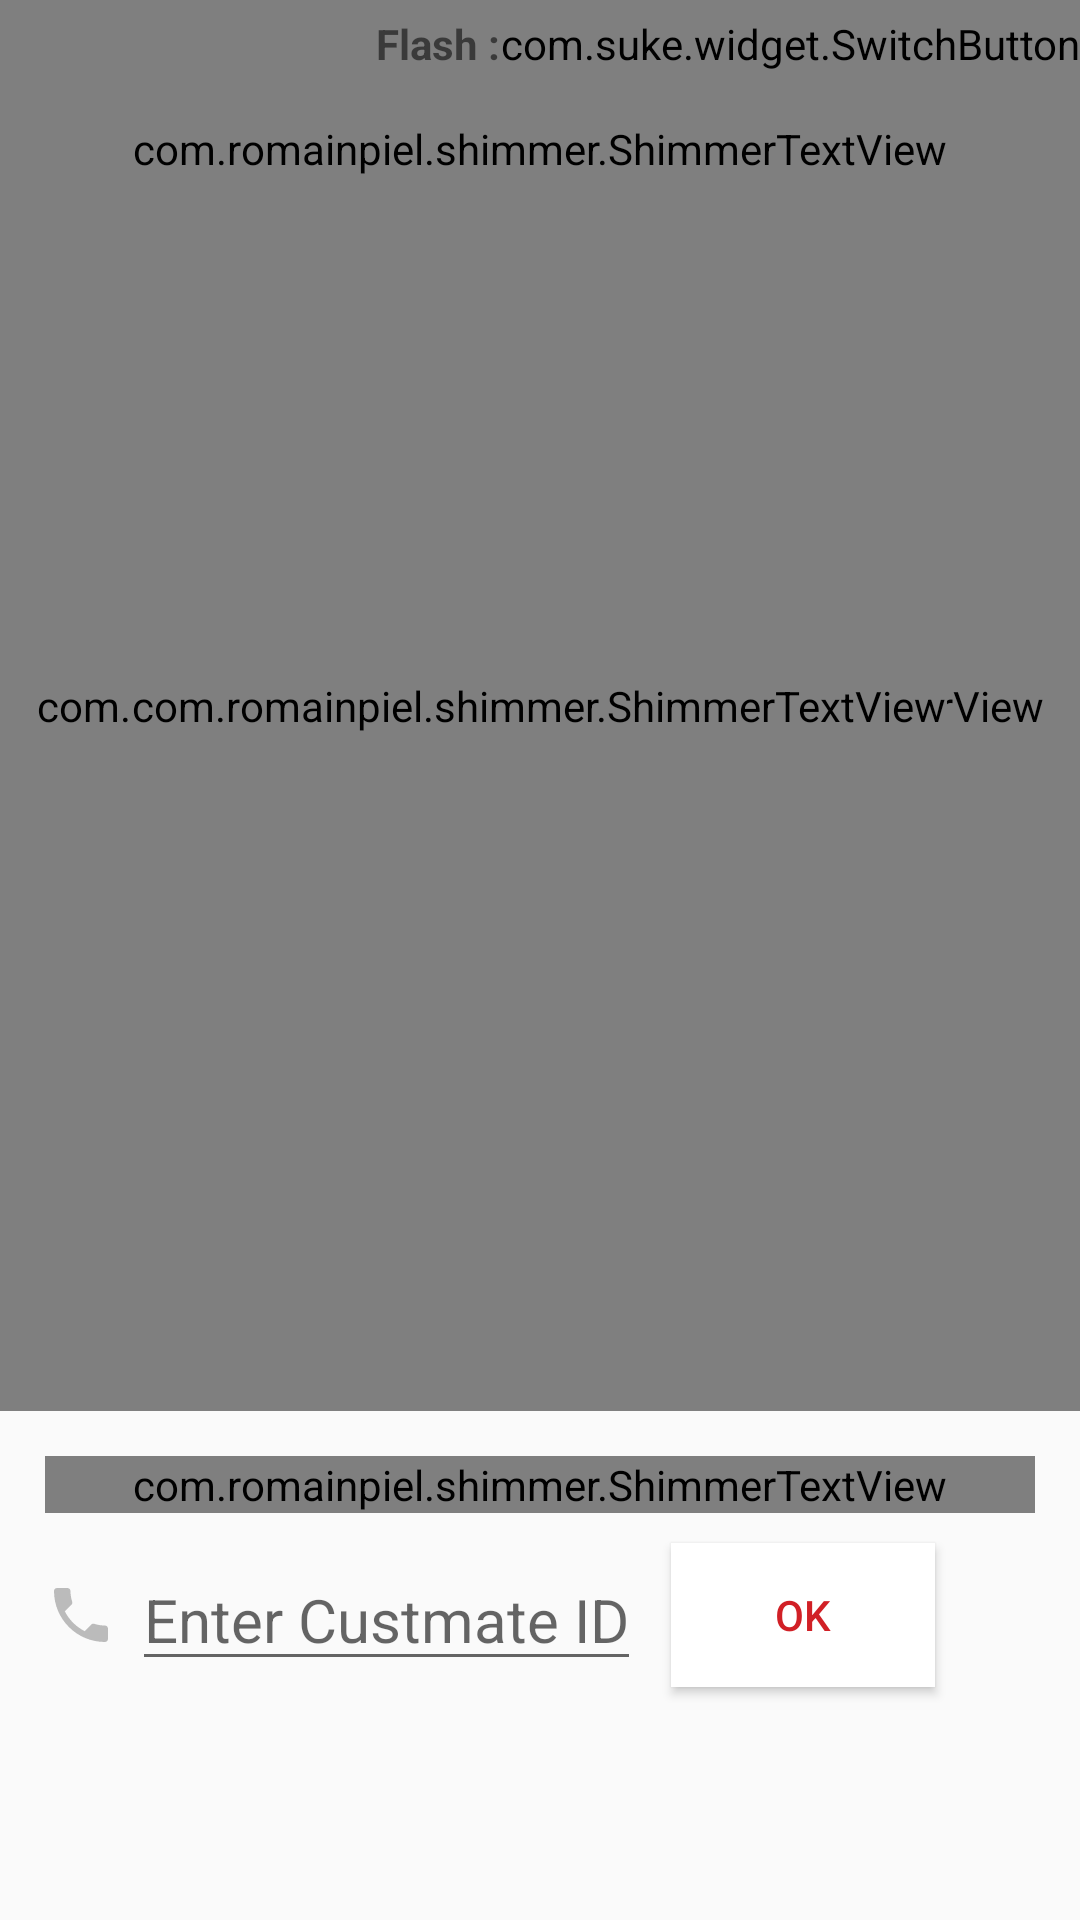

Where to tap for icons on this 1080w x 1920h app screen, as point (x, y):
call: point (81, 1615)
